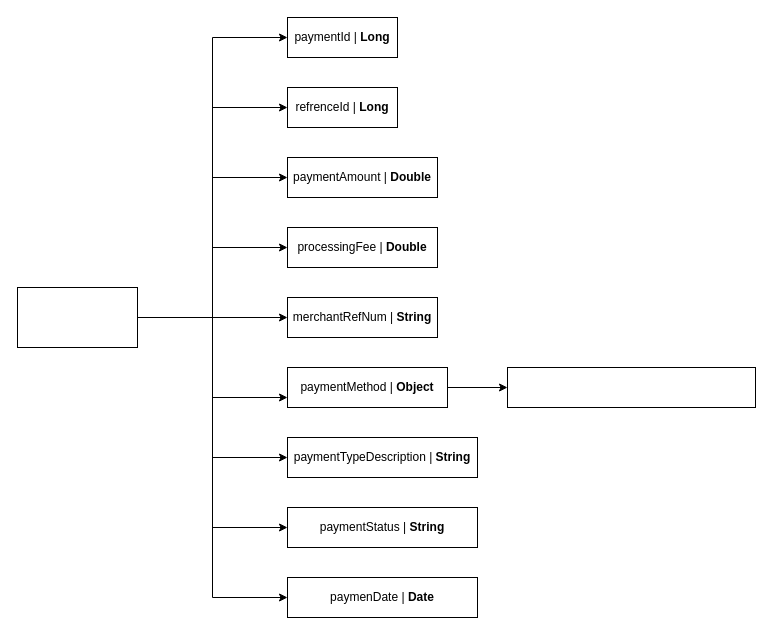
Some shapes in this 773 by 635 pixel diagram are drawn without their labels. Here are the shapes that lost their labels. From the top down, the centre of each, then its label:
the point at 77,317: Payment Object
the point at 631,387: CardPaymentMethodExpiry | Object
